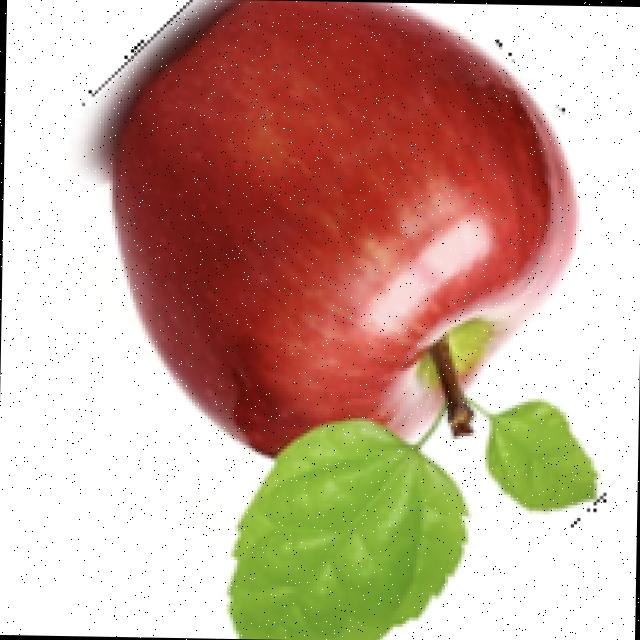apple: (70, 1, 614, 640)
